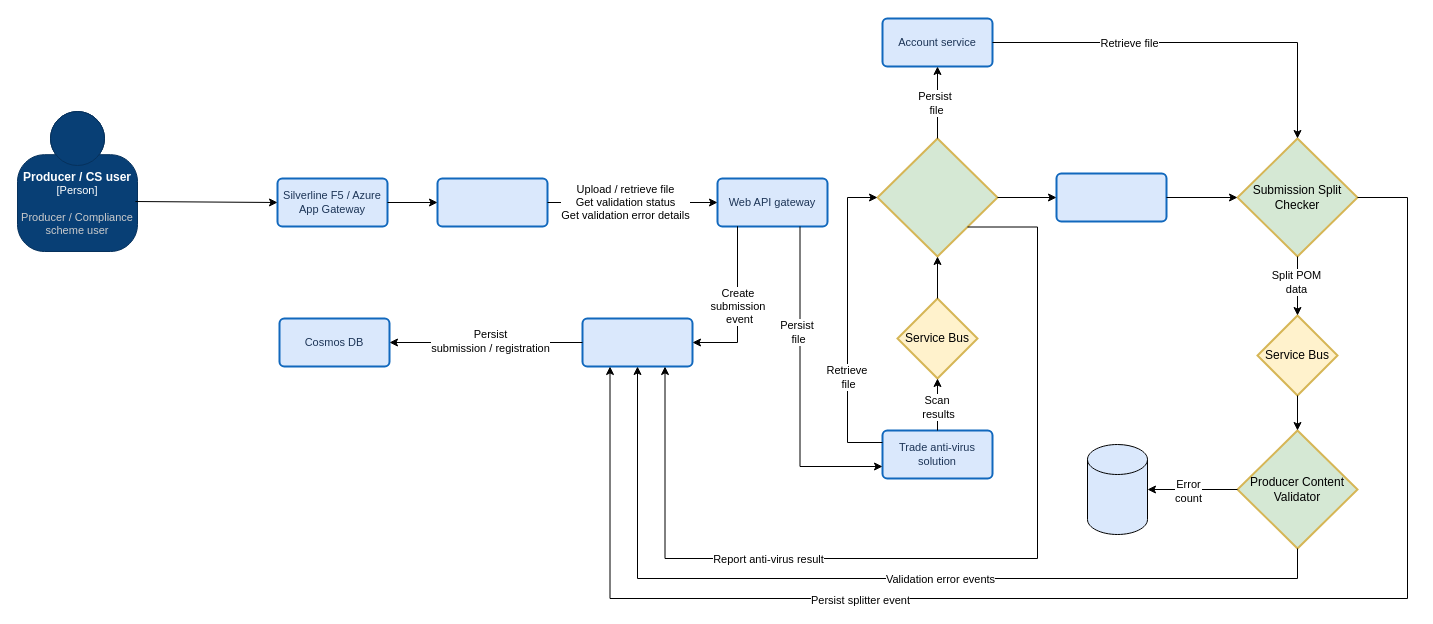
Some shapes in this 1433 by 624 pixel diagram are drawn without their labels. Here are the shapes that lost their labels. From the top down, the box of each, then its label:
(436, 177, 548, 227): RPD frontend
(876, 137, 998, 257): Anti-virus result function
(1055, 172, 1167, 222): Blob Storage
(581, 317, 693, 367): Submission status API
(1086, 444, 1148, 534): Redis cache
